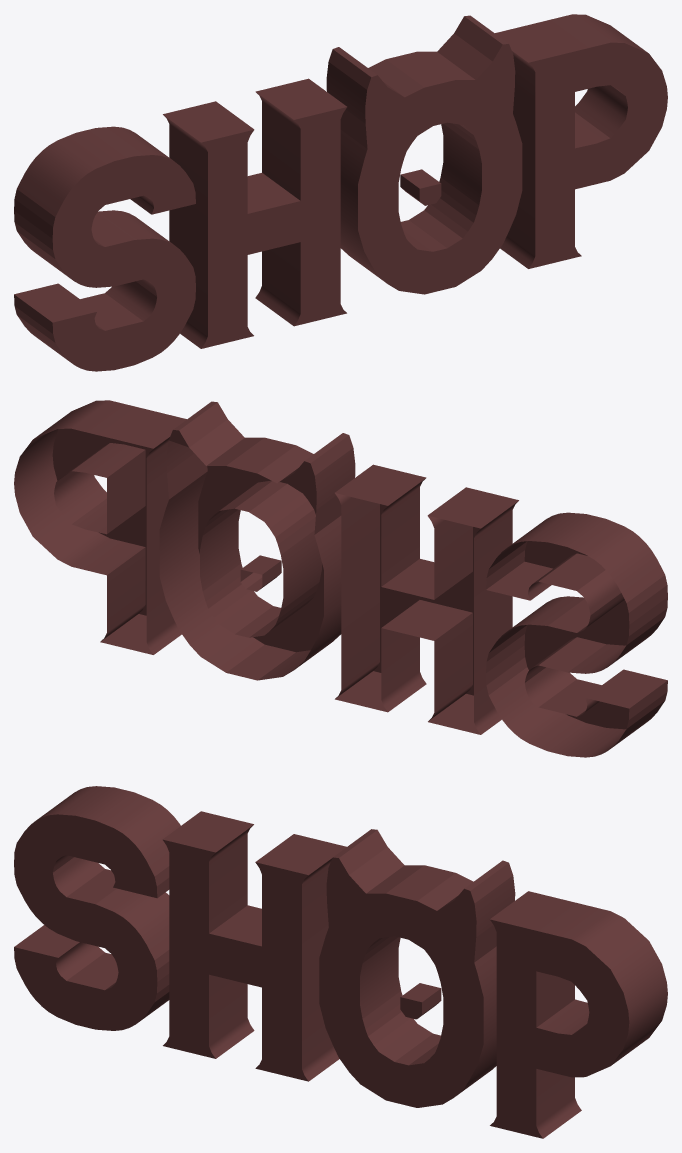
File: shop_sign.fbx
The picture shows the model from 3 angles, top to bottom: view 1: azimuth 30°, elevation 25°; view 2: azimuth 150°, elevation 25°; view 3: azimuth 330°, elevation 25°; orthographic projection.
Parts seen in each view (by area): view 1: O_, H_, S_, P_; view 2: O_, H_, S_, P_; view 3: O_, H_, S_, P_.
Part boxes in pixels (bbox=[...]): O_: bbox=[326, 15, 522, 294]; H_: bbox=[163, 78, 346, 348]; S_: bbox=[14, 126, 195, 371]; P_: bbox=[495, 14, 667, 268]; O_: bbox=[159, 401, 355, 680]; H_: bbox=[335, 464, 518, 734]; S_: bbox=[486, 512, 667, 757]; P_: bbox=[14, 400, 186, 654]; O_: bbox=[319, 829, 515, 1107]; H_: bbox=[162, 811, 346, 1081]; S_: bbox=[14, 786, 180, 1030]; P_: bbox=[490, 891, 667, 1138].
Bounding box in the file's own units: 9.19 × 3.29 × 1.
